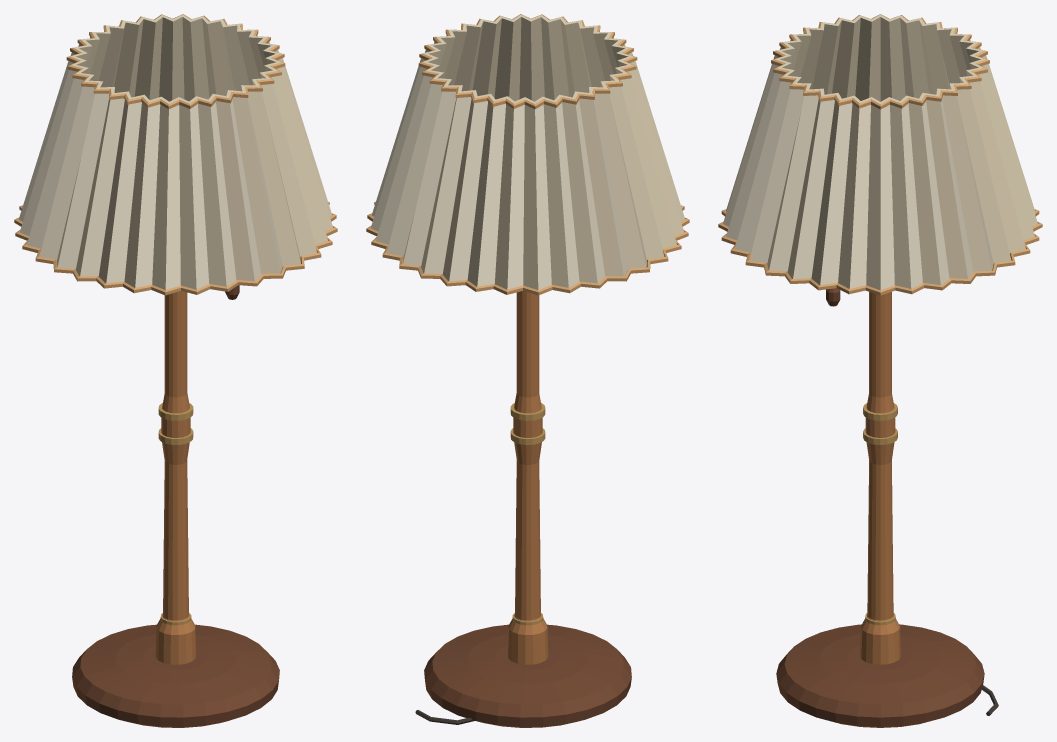
File: 008_pleated_floor_lamp_v01.glb
3 views of the same model, side by side, from view 1: azimuth 30°, elevation 25°; view 2: azimuth 150°, elevation 25°; view 3: azimuth 270°, elevation 25° (orthographic).
Parts seen in each view (by area): view 1: 008 cream accordion-pleated hollow shade, 008 turned weighted floor base, 008 turned oak floor-lamp standard, 008 sewn shade binding 1.171, 008 sewn shade binding 1.584; view 2: 008 cream accordion-pleated hollow shade, 008 turned weighted floor base, 008 turned oak floor-lamp standard, 008 sewn shade binding 1.171, 008 sewn shade binding 1.584; view 3: 008 cream accordion-pleated hollow shade, 008 turned weighted floor base, 008 turned oak floor-lamp standard, 008 sewn shade binding 1.171, 008 sewn shade binding 1.584.
Boxes of the visible parts, x1,y1,x2,y2 form: 008 cream accordion-pleated hollow shade: [18, 14, 332, 289]; 008 turned weighted floor base: [72, 624, 279, 727]; 008 turned oak floor-lamp standard: [155, 291, 196, 664]; 008 sewn shade binding 1.171: [14, 201, 337, 295]; 008 sewn shade binding 1.584: [66, 14, 285, 109]; 008 cream accordion-pleated hollow shade: [371, 14, 685, 289]; 008 turned weighted floor base: [424, 624, 631, 727]; 008 turned oak floor-lamp standard: [507, 291, 548, 664]; 008 sewn shade binding 1.171: [366, 201, 689, 295]; 008 sewn shade binding 1.584: [418, 14, 637, 109]; 008 cream accordion-pleated hollow shade: [723, 14, 1037, 290]; 008 turned weighted floor base: [776, 624, 984, 727]; 008 turned oak floor-lamp standard: [860, 292, 900, 664]; 008 sewn shade binding 1.171: [718, 209, 1042, 295]; 008 sewn shade binding 1.584: [771, 14, 989, 109].
Size of the model in its own units: 0.7405 by 1.59 by 0.7405.
